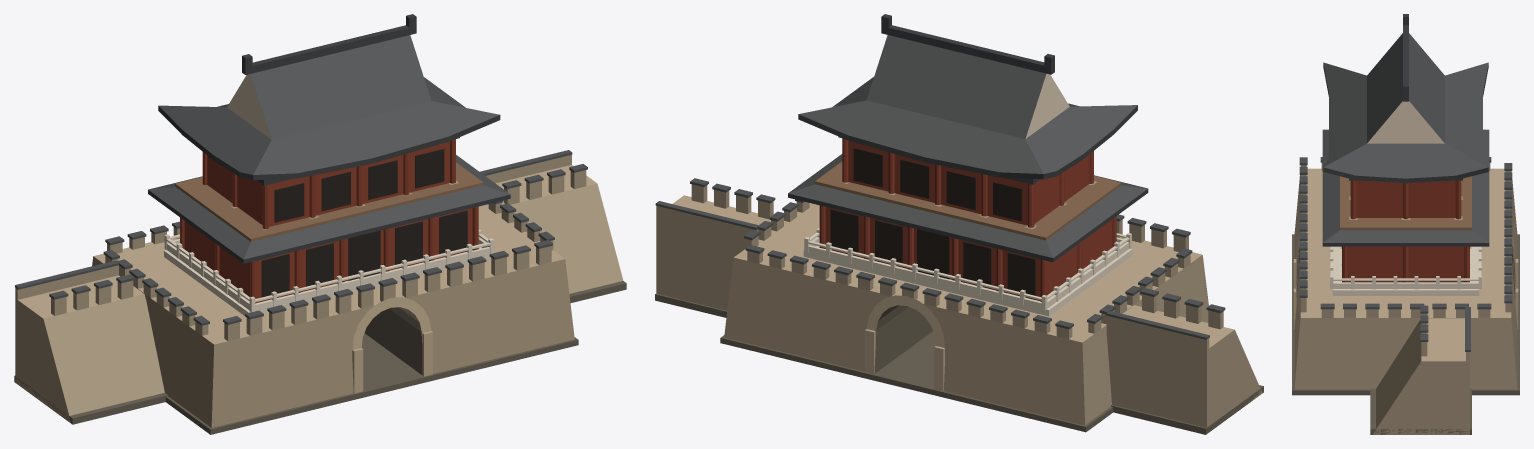
The model's file is K04b_far.glb.
3 renders of one model, left to right at view 1: azimuth 30°, elevation 25°; view 2: azimuth 150°, elevation 25°; view 3: azimuth 270°, elevation 25°, orthographic. The views are drawn at different scales.
Parts seen in each view (by area): view 1: K04b_far; view 2: K04b_far; view 3: K04b_far.
Part boxes in pixels (bbox=[...]): K04b_far: bbox=[14, 14, 626, 434]; K04b_far: bbox=[655, 14, 1263, 434]; K04b_far: bbox=[1292, 14, 1519, 434].
Size of the model in its own units: 54.8 by 28.93 by 22.4.
